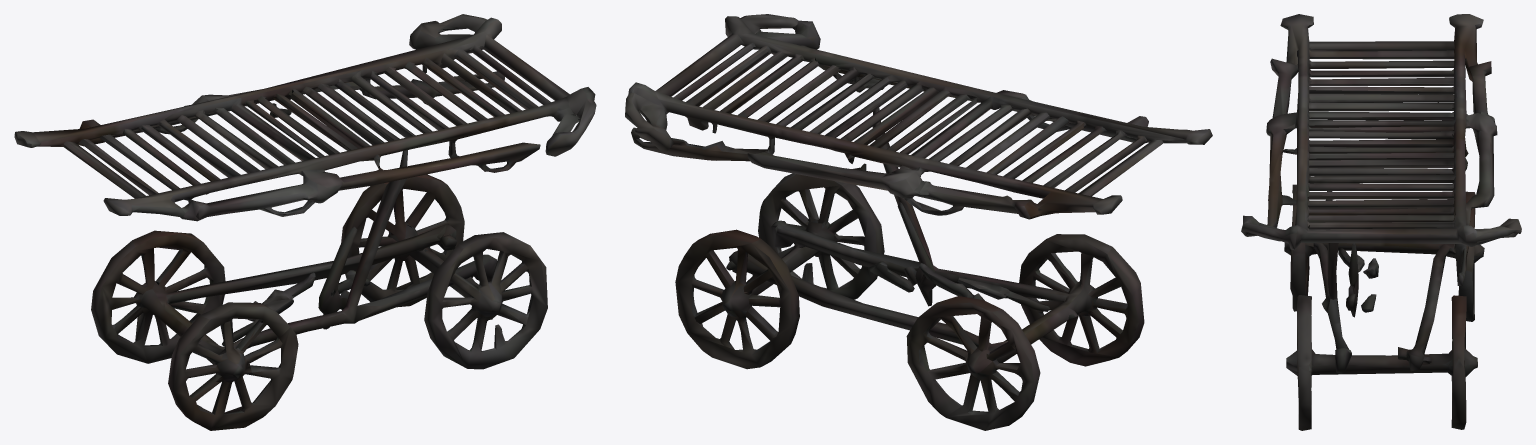
Rendered from plain-iron-gurney-v001.glb.
3 renders of one model, left to right at view 1: azimuth 30°, elevation 25°; view 2: azimuth 150°, elevation 25°; view 3: azimuth 270°, elevation 25°, orthographic. The views are drawn at different scales.
Visible parts, largest first — view 1: plain-iron-gurney; view 2: plain-iron-gurney; view 3: plain-iron-gurney.
Part boxes in pixels (bbox=[...]): plain-iron-gurney: bbox=[14, 14, 596, 430]; plain-iron-gurney: bbox=[625, 14, 1212, 430]; plain-iron-gurney: bbox=[1241, 14, 1521, 430].
Bounding box in the file's own units: 1.66 × 0.8538 × 0.91.
Materials: 1 (1 with a texture image).
